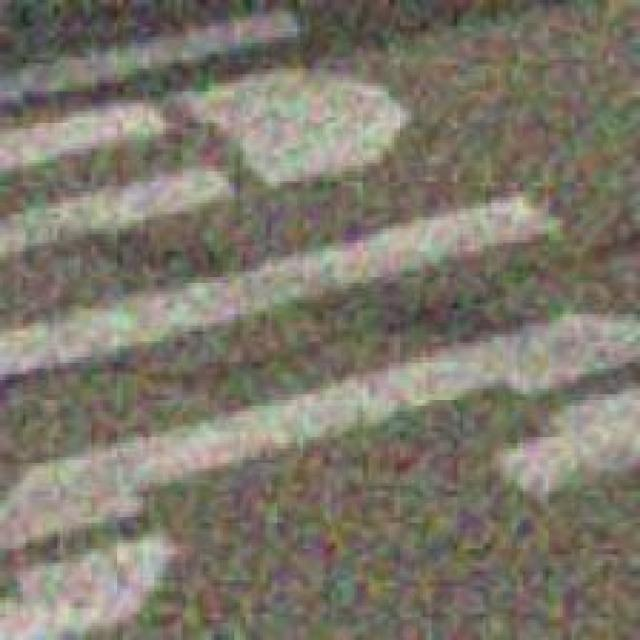zebra: (5, 3, 640, 639)
